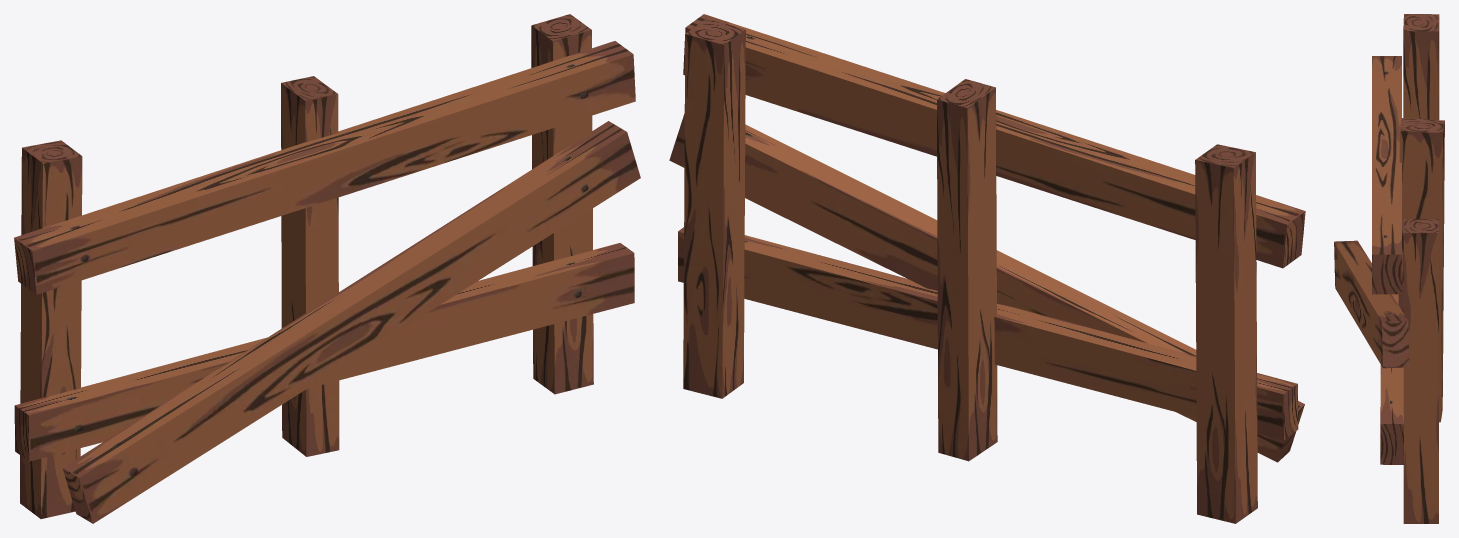
The model's file is farm_fence_01.glb.
3 renders of one model, left to right at view 1: azimuth 30°, elevation 25°; view 2: azimuth 150°, elevation 25°; view 3: azimuth 270°, elevation 25°, orthographic. The views are drawn at different scales.
Visible parts, largest first — view 1: farm:fence_01; view 2: farm:fence_01; view 3: farm:fence_01.
Part boxes in pixels (left/top/right/bottom): farm:fence_01: left=14, top=14, right=640, bottom=523; farm:fence_01: left=669, top=14, right=1305, bottom=523; farm:fence_01: left=1334, top=14, right=1444, bottom=523.
Size of the model in its own units: 1.58 by 0.8755 by 0.3028.
1 material, 1 textured.
